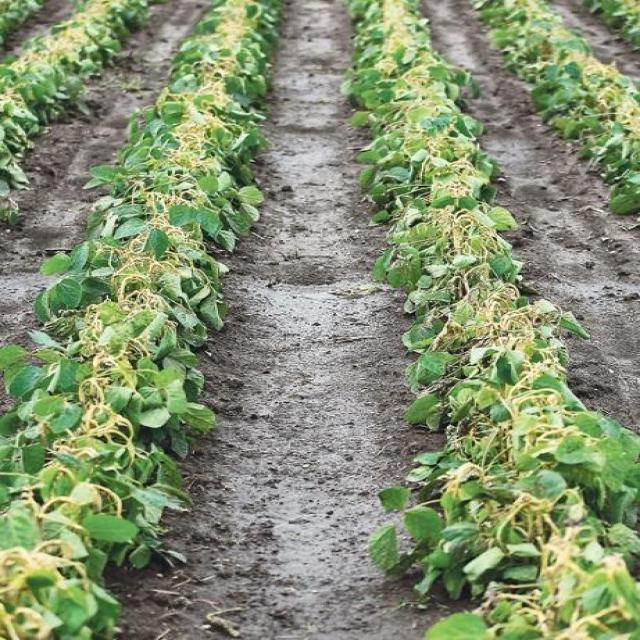row: (86, 0, 487, 640), (421, 1, 638, 503), (546, 0, 640, 90), (2, 0, 80, 77)
